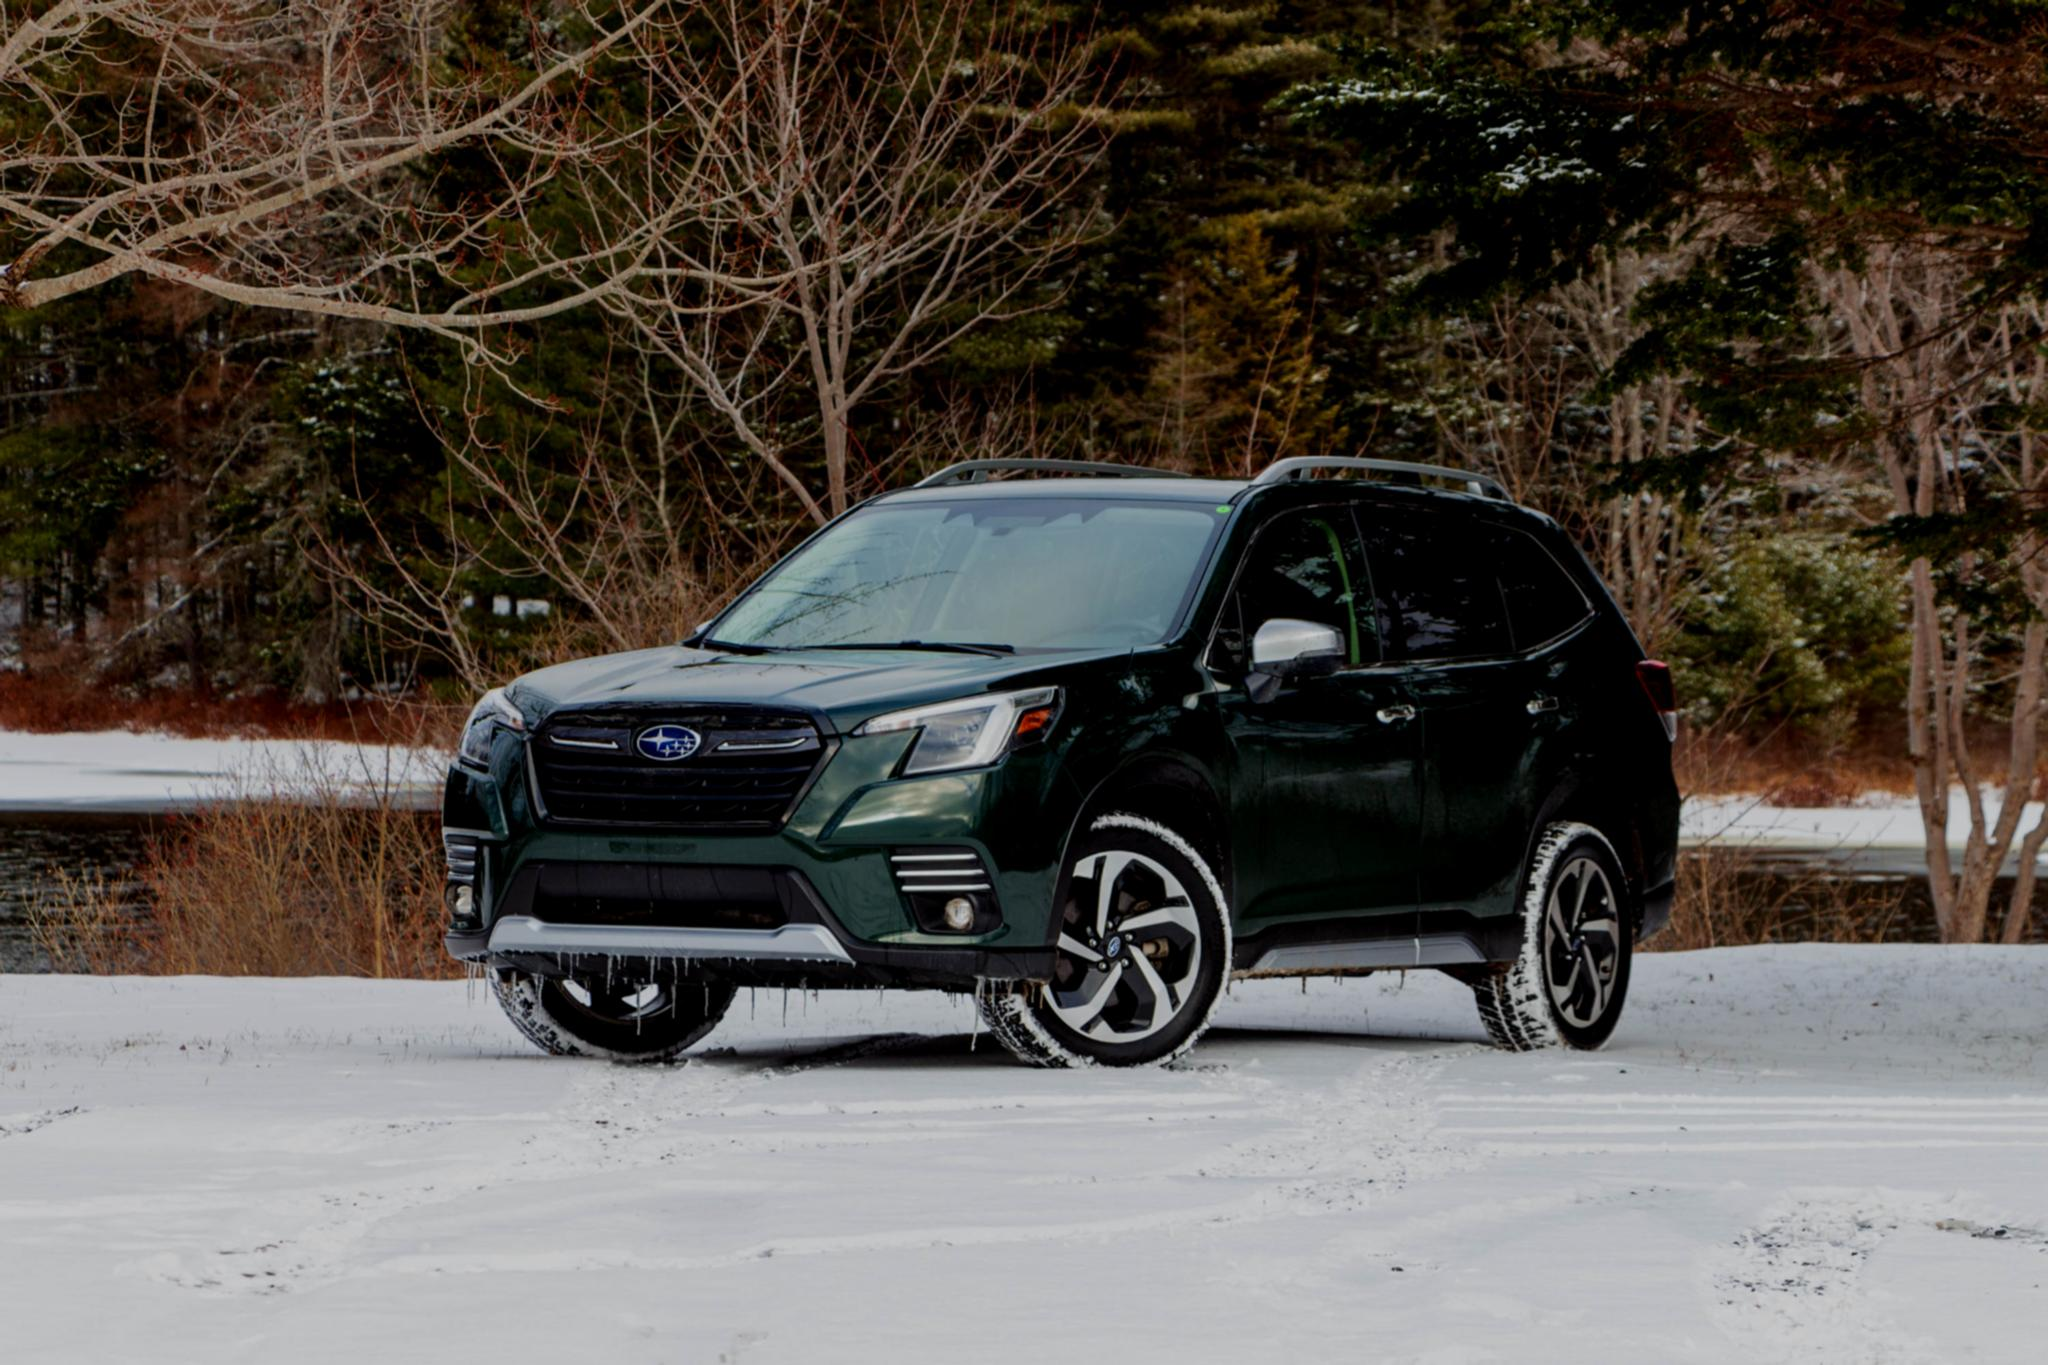subaru: (623, 710, 711, 775)
